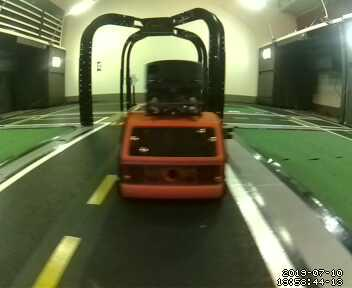pheeno: (120, 58, 227, 213)
